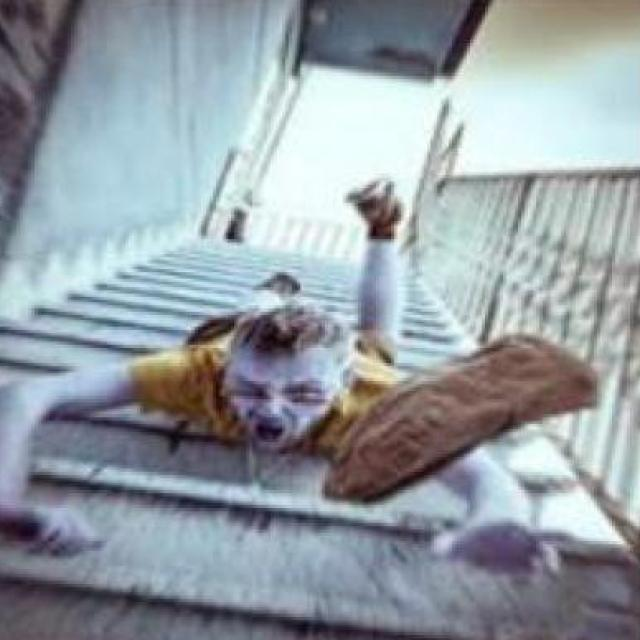stair: (71, 399, 500, 640)
